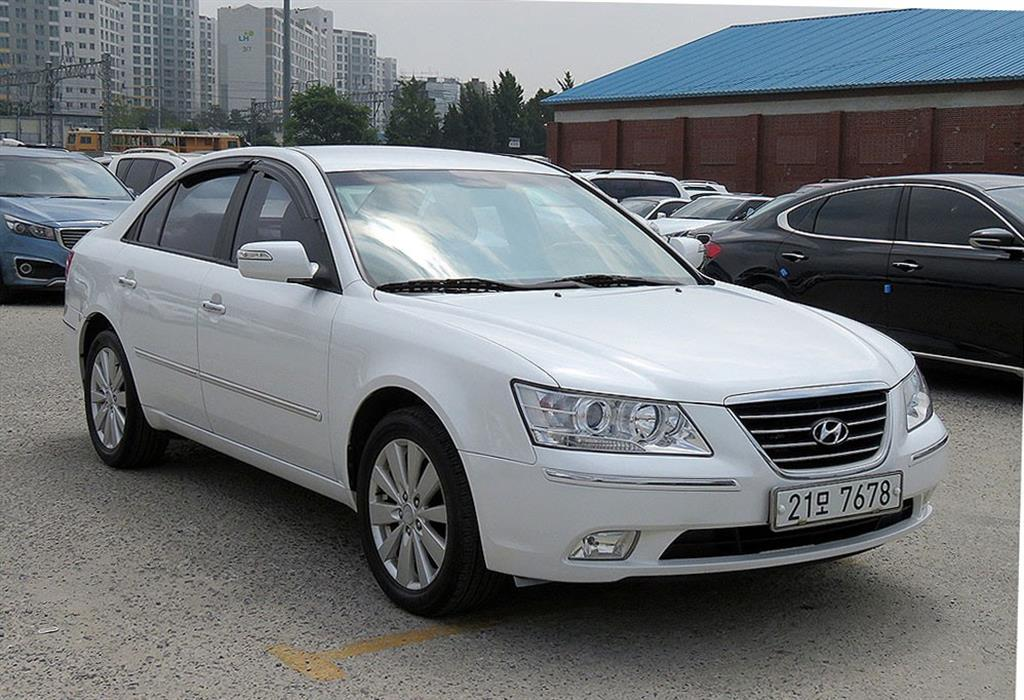plate: (776, 474, 901, 527)
